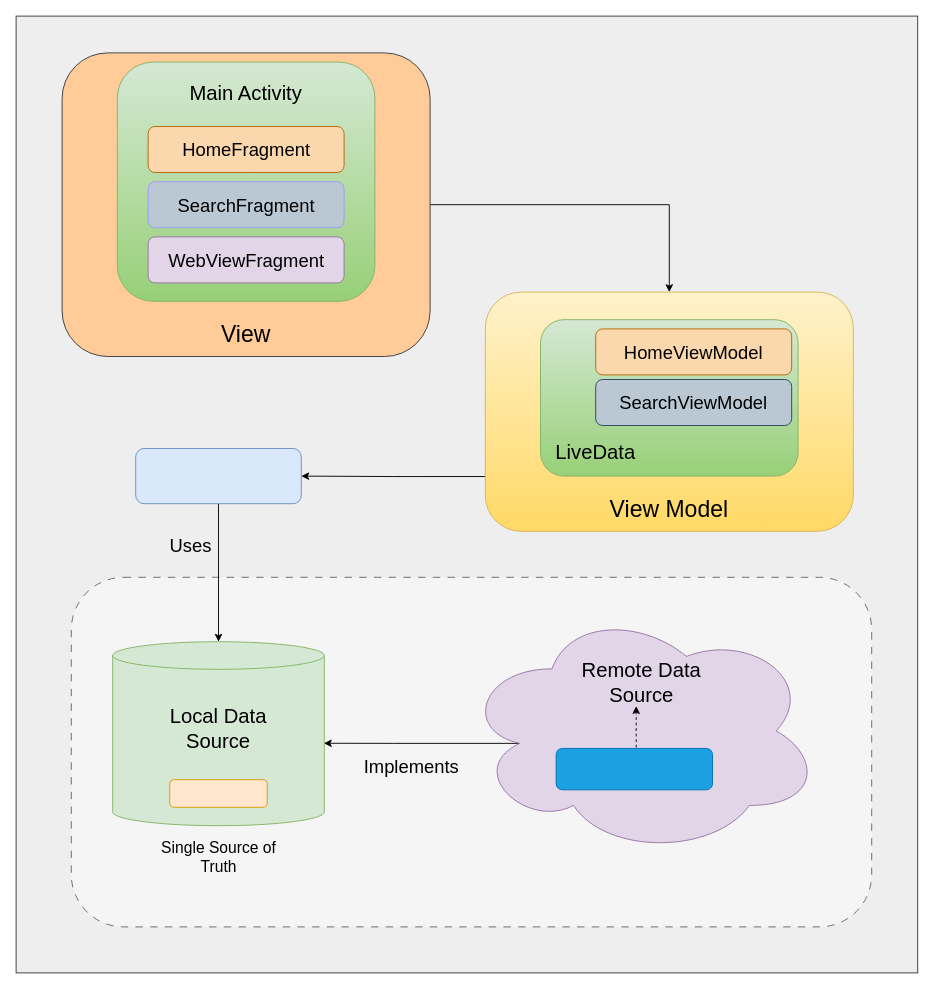
The diagram is 934 pixels wide and 989 high, and some of its shapes have lost their labels. Here are the shapes that lost their labels. From the top down, the centre of each, then its label:
point (218, 476): Repository
point (634, 769): StackOverflow API
point (218, 793): RoomDB
